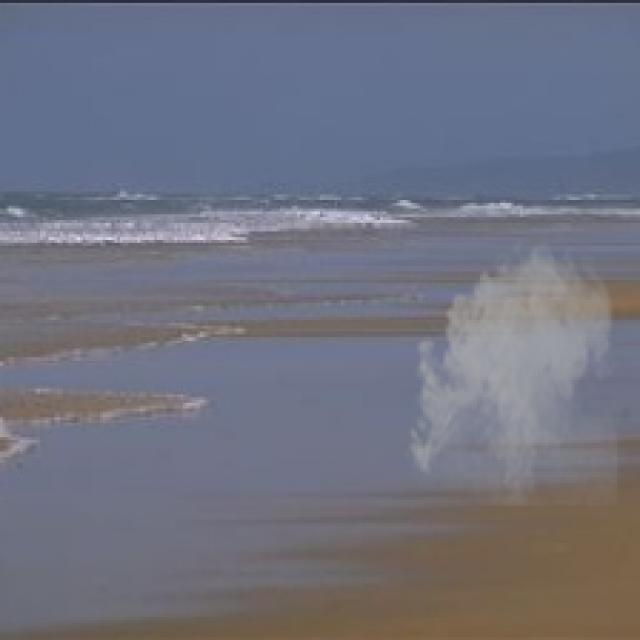smoke: (403, 234, 620, 506)
